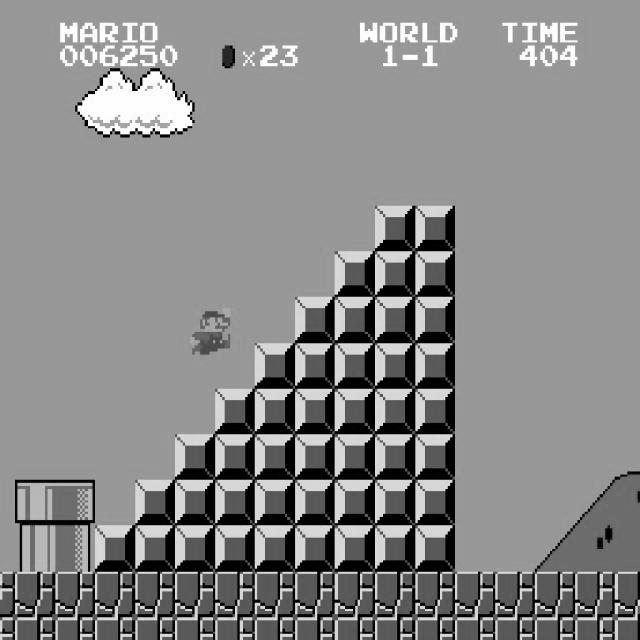11- little_mario: (188, 306, 230, 354)
14- pipe: (54, 526, 96, 572), (15, 526, 56, 572)
15- pipe_head: (54, 480, 96, 526), (15, 480, 56, 526)
17- undestructible_block: (54, 572, 96, 618), (94, 572, 136, 618), (134, 572, 176, 618), (174, 572, 216, 618), (214, 572, 256, 618), (254, 572, 296, 618), (294, 572, 336, 618), (334, 572, 376, 618), (374, 572, 416, 618), (414, 572, 456, 618), (454, 572, 496, 618), (494, 572, 536, 618), (534, 572, 576, 618), (574, 572, 616, 618), (15, 572, 56, 618), (614, 571, 640, 617), (54, 617, 96, 640), (94, 617, 136, 640), (134, 617, 176, 640), (174, 617, 216, 640), (214, 617, 256, 640), (254, 617, 296, 640), (294, 617, 336, 640), (334, 617, 376, 640), (374, 617, 416, 640), (414, 617, 456, 640), (454, 617, 496, 640), (494, 617, 536, 640), (534, 617, 576, 640), (574, 617, 616, 640), (15, 617, 56, 640), (0, 572, 15, 618), (614, 617, 640, 639), (0, 617, 15, 640)
9- hard_block: (94, 526, 136, 572), (134, 480, 176, 526), (134, 526, 176, 572), (174, 434, 216, 480), (174, 480, 216, 526), (174, 526, 216, 572), (214, 388, 256, 434), (214, 434, 256, 480), (214, 480, 256, 526), (214, 526, 256, 572), (254, 388, 296, 434), (254, 434, 296, 480), (254, 480, 296, 526), (254, 526, 296, 572), (294, 297, 336, 343), (294, 388, 336, 434), (294, 434, 336, 480), (294, 480, 336, 526), (294, 526, 336, 572), (334, 252, 376, 298), (334, 297, 376, 343), (334, 388, 376, 434), (334, 434, 376, 480), (334, 480, 376, 526), (334, 526, 376, 572), (374, 252, 416, 298), (374, 297, 416, 343), (374, 388, 416, 434), (374, 434, 416, 480), (374, 480, 416, 526), (374, 526, 416, 572), (414, 252, 456, 298), (414, 297, 456, 343), (414, 388, 456, 434), (414, 434, 456, 480), (414, 480, 456, 526), (414, 526, 456, 572), (254, 343, 296, 388), (294, 343, 336, 388), (334, 343, 376, 388), (374, 206, 416, 251), (374, 343, 416, 388), (414, 206, 456, 251), (414, 343, 456, 388)
